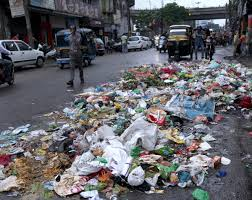garbage: (4, 128, 220, 200), (62, 101, 221, 186), (122, 64, 221, 180), (169, 65, 252, 112)
